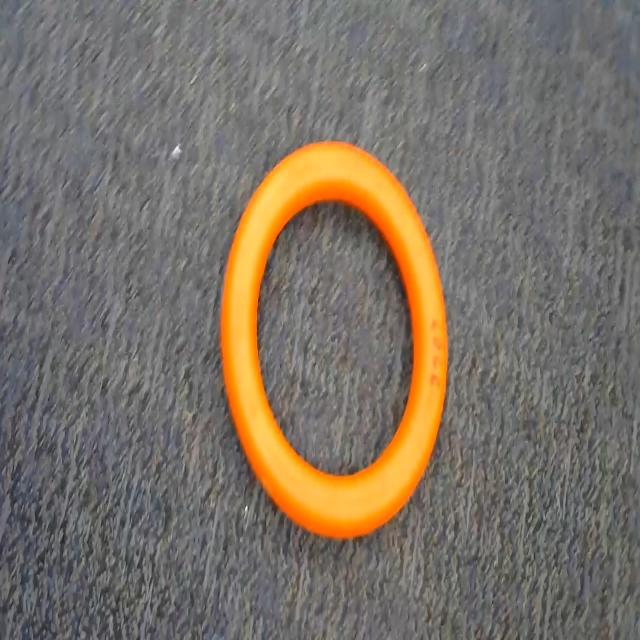note: (207, 122, 461, 556)
